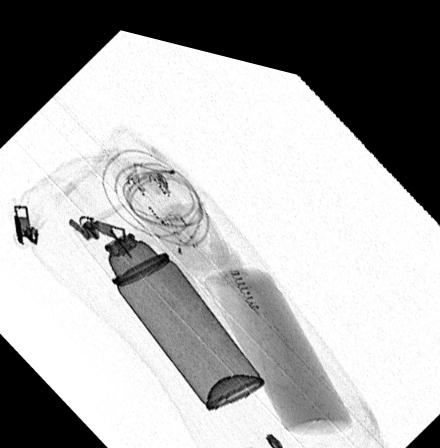Sprayer: (71, 194, 266, 398)
